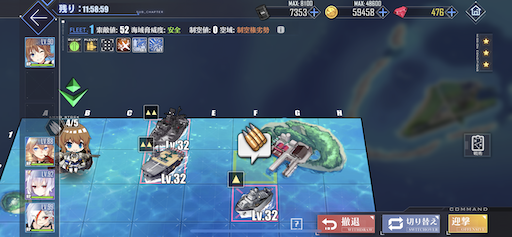lv1: (228, 172, 279, 221)
lv2: (140, 139, 184, 183), (144, 105, 189, 148)
